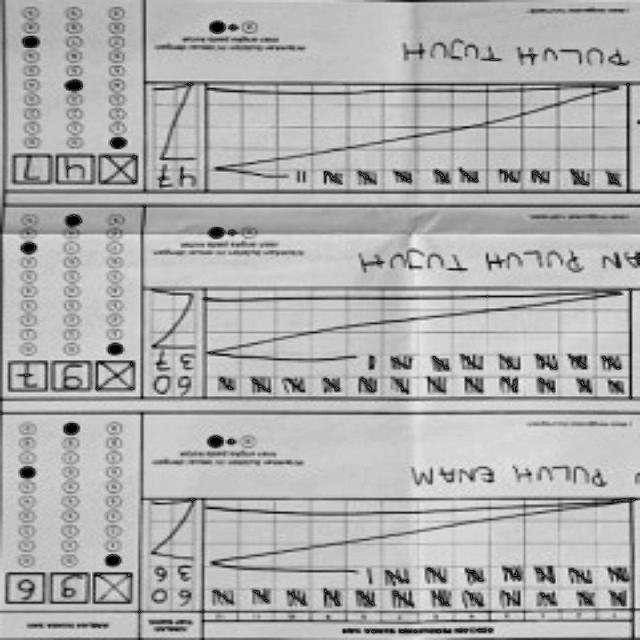Suara: (4, 354, 139, 397), (3, 569, 138, 611), (8, 149, 142, 191)
